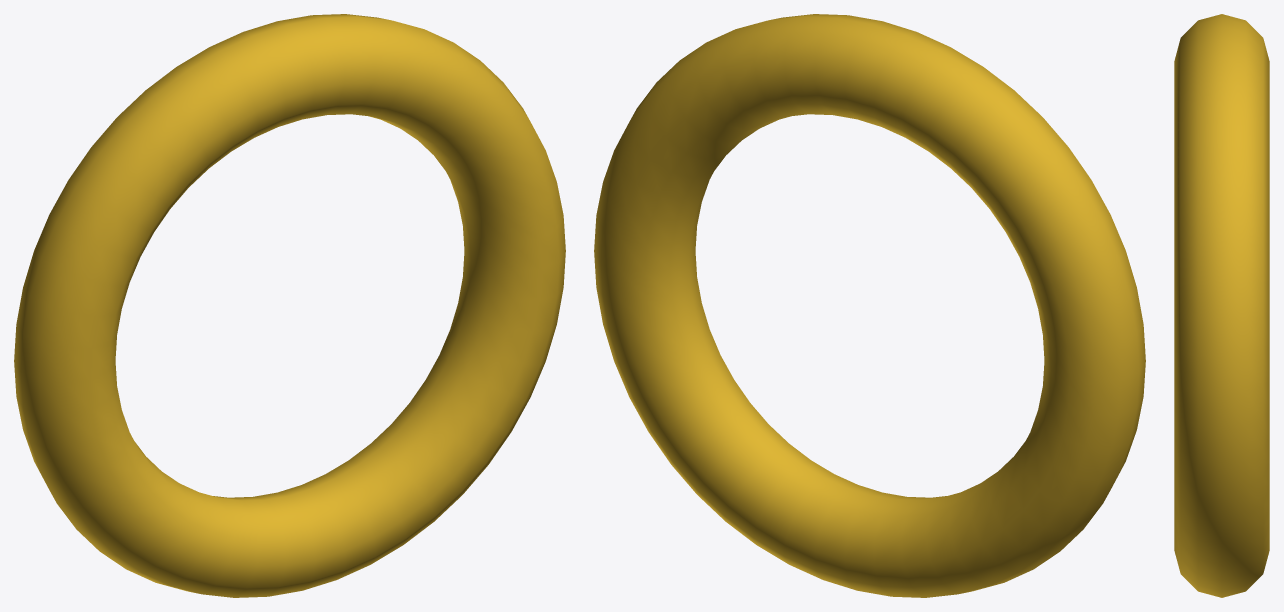
Rendered from ring.glb.
The picture shows the model from 3 angles, left to right: view 1: azimuth 30°, elevation 25°; view 2: azimuth 150°, elevation 25°; view 3: azimuth 270°, elevation 25°; orthographic projection. The views are drawn at different scales.
Parts seen in each view (by area): view 1: Torus_0; view 2: Torus_0; view 3: Torus_0.
Part boxes in pixels (<box>): Torus_0: <box>14,14,565,597</box>; Torus_0: <box>594,14,1145,597</box>; Torus_0: <box>1174,14,1269,597</box>.
Bounding box in the file's own units: 0.5832 × 0.5832 × 0.0952.
